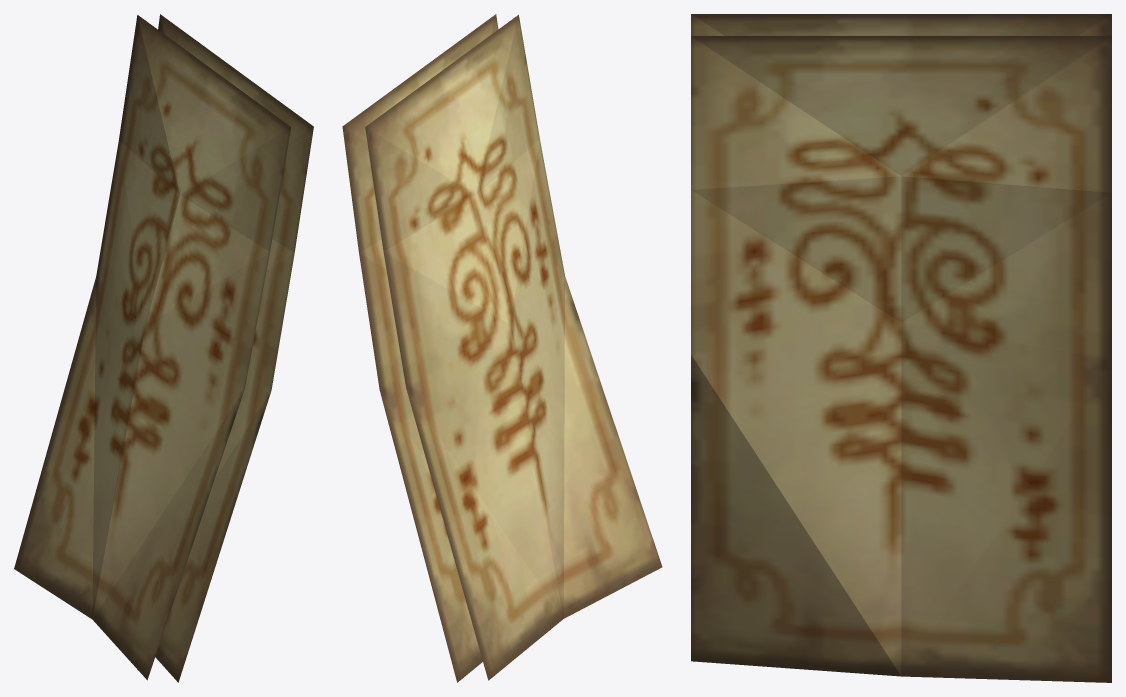
Rendered from Chameleon_cTalisman_chineseTalisman1.obj.
3 renders of one model, left to right at view 1: azimuth 30°, elevation 25°; view 2: azimuth 150°, elevation 25°; view 3: azimuth 270°, elevation 25°, orthographic. The views are drawn at different scales.
Parts seen in each view (by area): view 1: Chameleon_cTalisman [chineseTalisman1]; view 2: Chameleon_cTalisman [chineseTalisman1]; view 3: Chameleon_cTalisman [chineseTalisman1].
Boxes of the visible parts, x1,y1,x2,y2 form: Chameleon_cTalisman [chineseTalisman1]: (14,14,313,682); Chameleon_cTalisman [chineseTalisman1]: (342,14,662,682); Chameleon_cTalisman [chineseTalisman1]: (691,14,1111,682).
Size of the model in its own units: 0.0813 by 0.249 by 0.13.
1 material, 1 textured.
